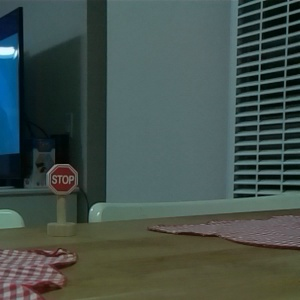stop sign: (44, 162, 80, 237)
